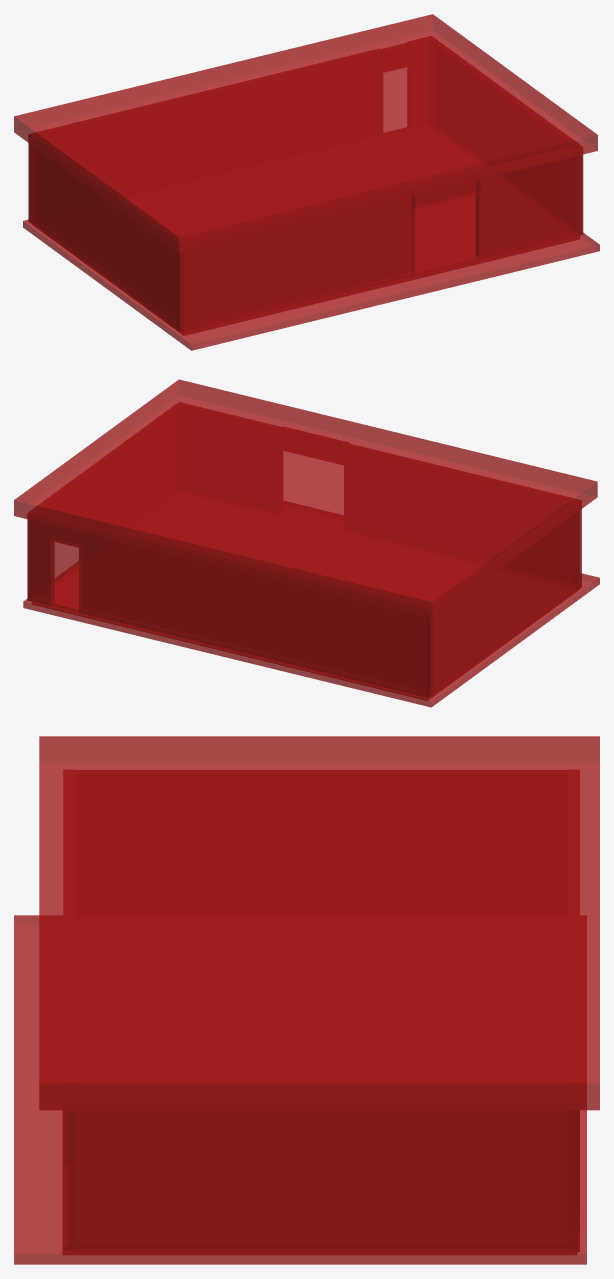
The model's file is SM_Bld_Shop_02_COLLISION.fbx.
3 renders of one model, top to bottom at view 1: azimuth 30°, elevation 25°; view 2: azimuth 150°, elevation 25°; view 3: azimuth 270°, elevation 25°, orthographic. The views are drawn at different scales.
Parts seen in each view (by area): view 1: SM_Bld_Shop_02_COLLISION; view 2: SM_Bld_Shop_02_COLLISION; view 3: SM_Bld_Shop_02_COLLISION.
Boxes of the visible parts, x1,y1,x2,y2 form: SM_Bld_Shop_02_COLLISION: (14, 14, 599, 350); SM_Bld_Shop_02_COLLISION: (14, 379, 599, 707); SM_Bld_Shop_02_COLLISION: (14, 736, 599, 1264).
Size of the model in its own units: 1535 by 383 by 1095.
